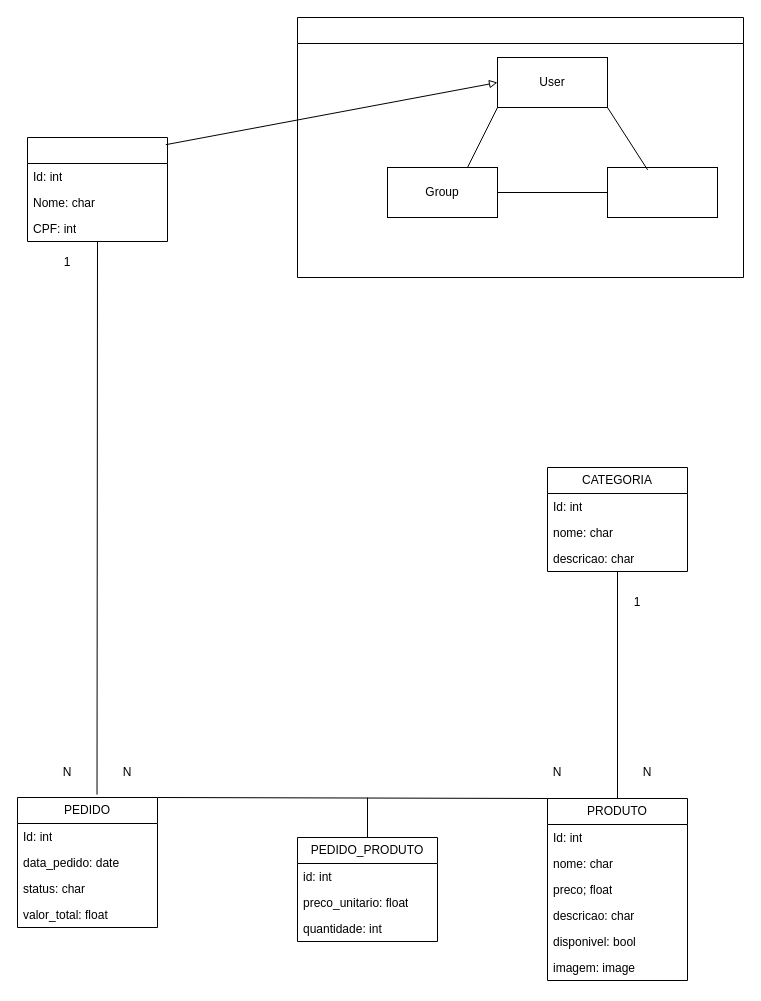
This 761x1001 diagram has some shape labels left out. The shapes that lost their labels are listed below. From the top down, each one's box as (x1, y1, x2, y2) in pixels, then its label:
(296, 16, 744, 278): django.contrib.auth
(26, 136, 168, 242): PESSOA
(606, 166, 718, 218): Permission
